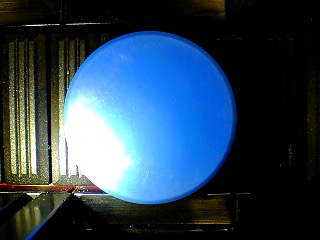BLANK: (63, 30, 237, 204)
